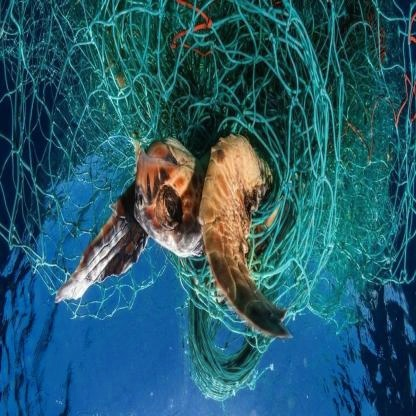net: (21, 1, 416, 303)
